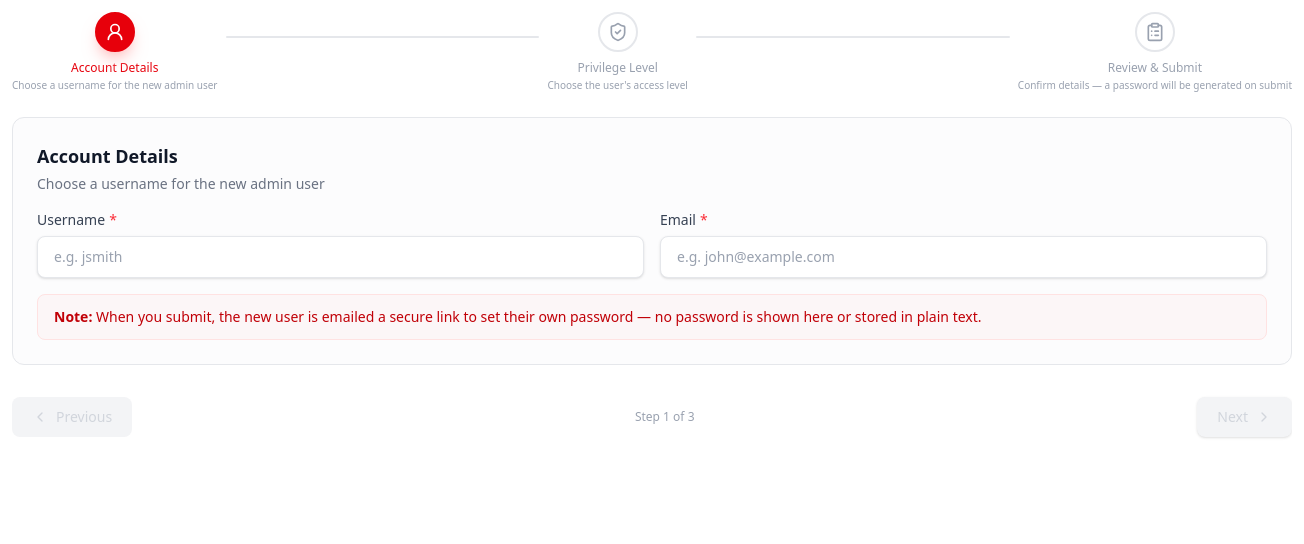
UserForm Component › Step 3 — Review & API Submission › shows summary card with correct data
The image size is (1304, 544).
Type "testuser" into the field with placeholder "e.g. jsmith" at (340, 257), box [37,236,644,278]
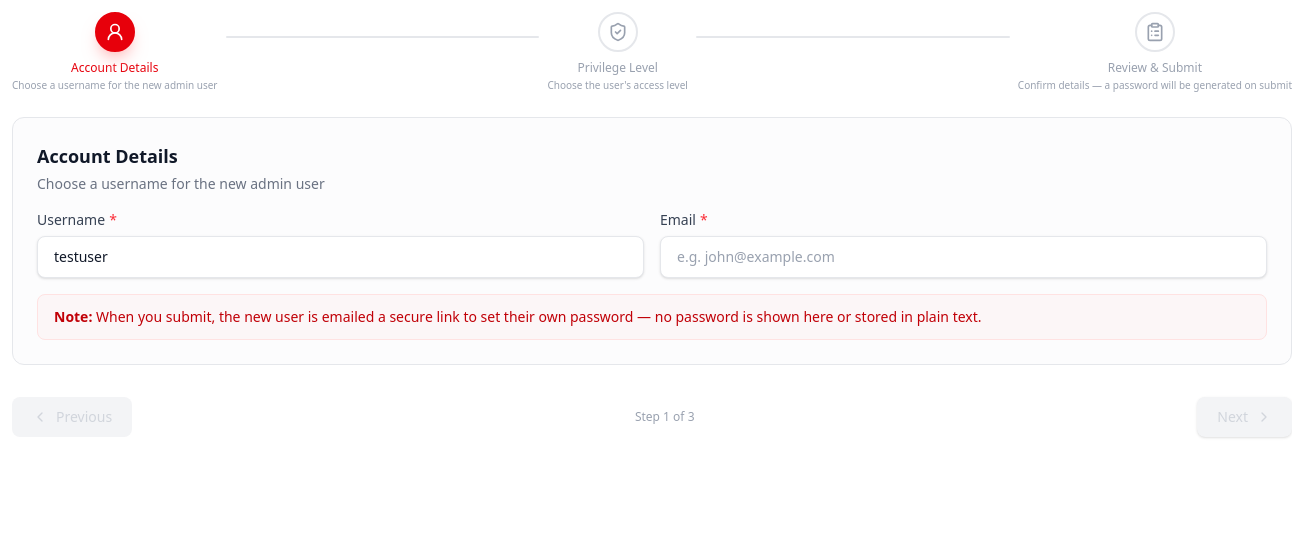
Type "test@example.com" into the field with placeholder "e.g. john@example.com" at (964, 257), box [660,236,1267,278]
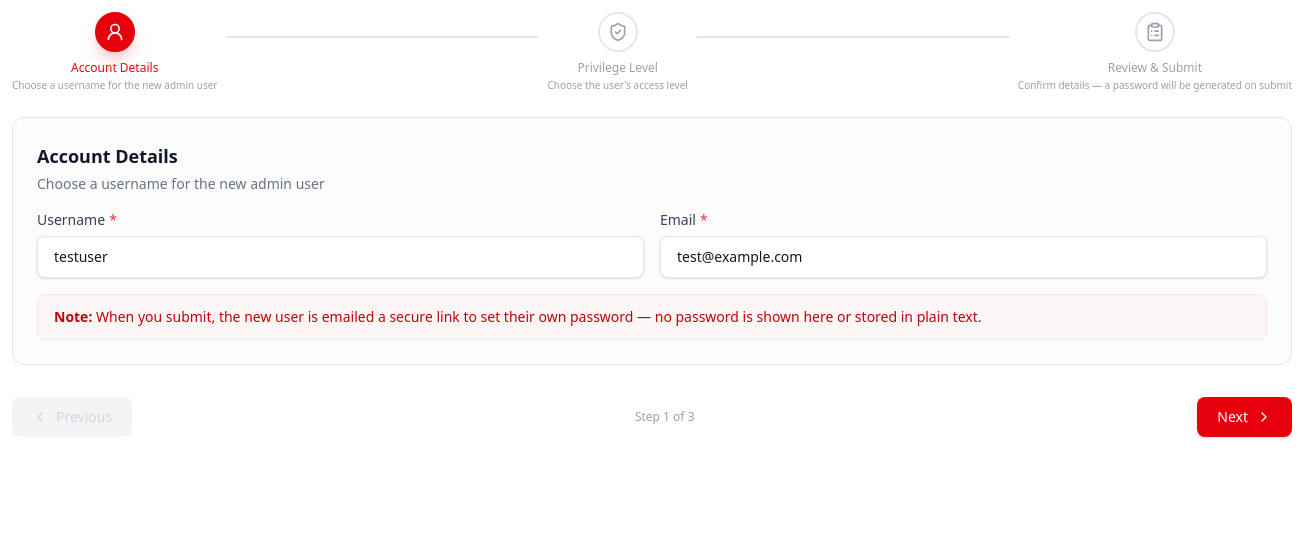
Click the button "Next" at (1245, 417), box [1197,397,1292,437]
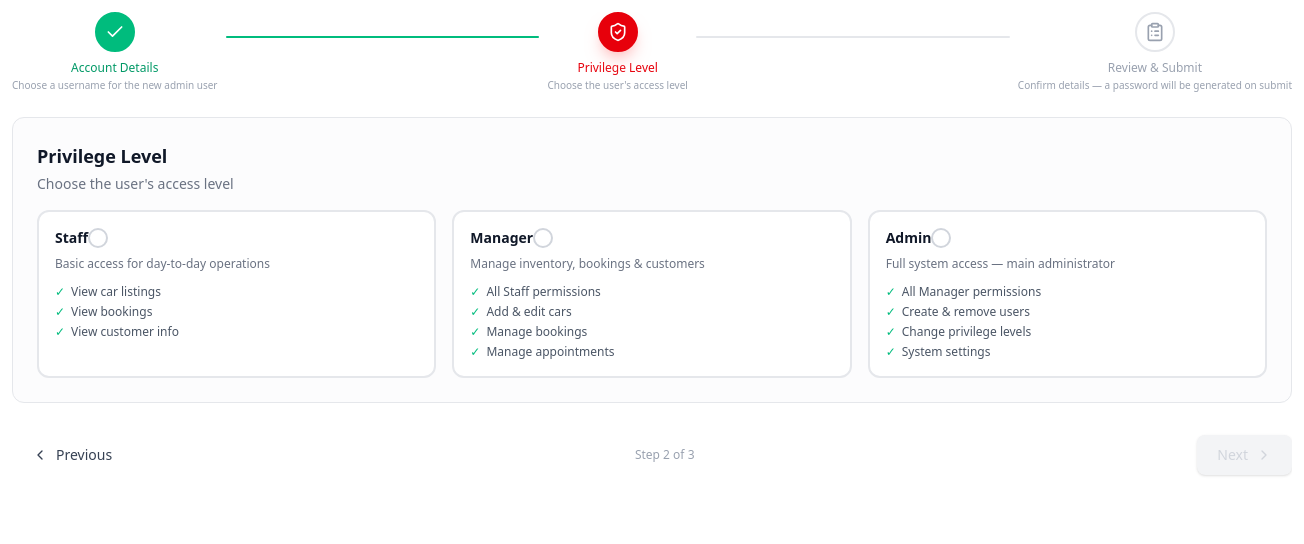
Click the text "Staff" at (72, 238), box [55,228,88,248]
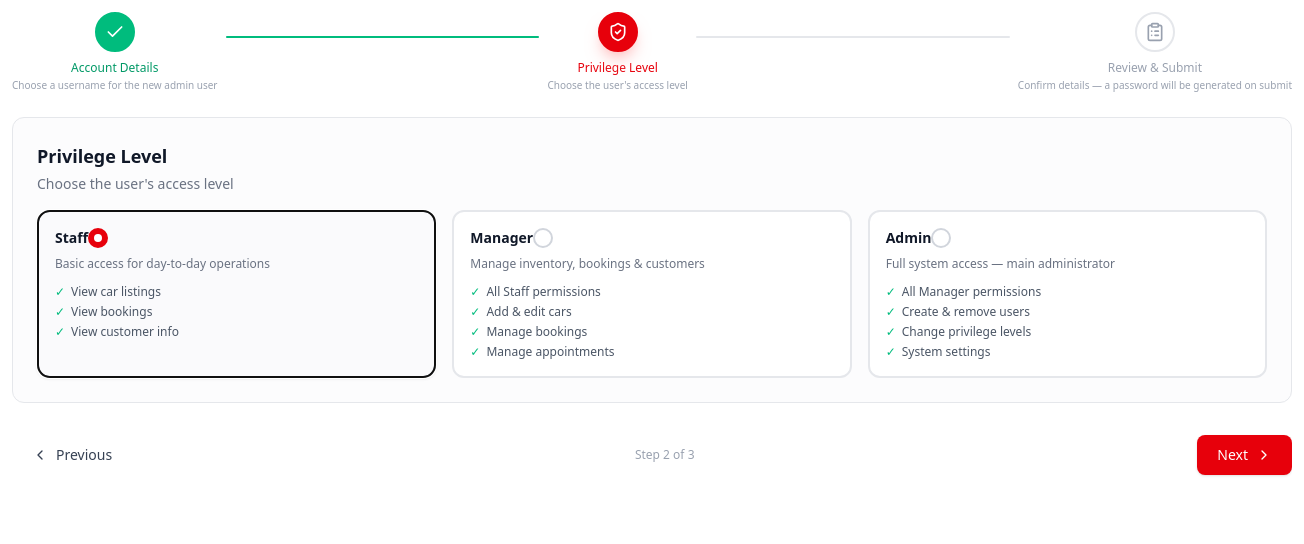
Click the button "Next" at (1245, 455), box [1197,435,1292,475]
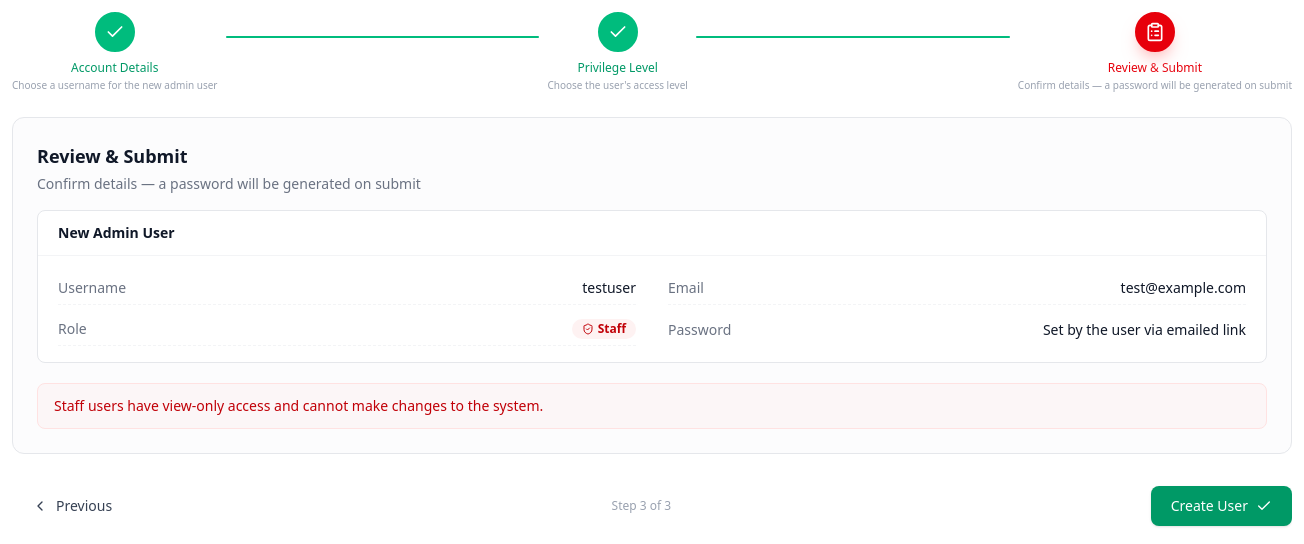
Expected: the text "testuser" is shown, [582,278,636,298]
Expected: the text "test@example.com" is shown, [1121,278,1246,298]
Expected: the text "Set by the user via emailed link" is shown, [1043,320,1246,340]
